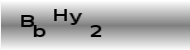2: (89, 24, 104, 38)
B: (19, 15, 35, 28)
H: (52, 8, 68, 22)
b: (33, 23, 46, 38)
y: (69, 11, 82, 26)
